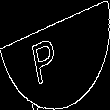P_N: (39, 25, 71, 85)
